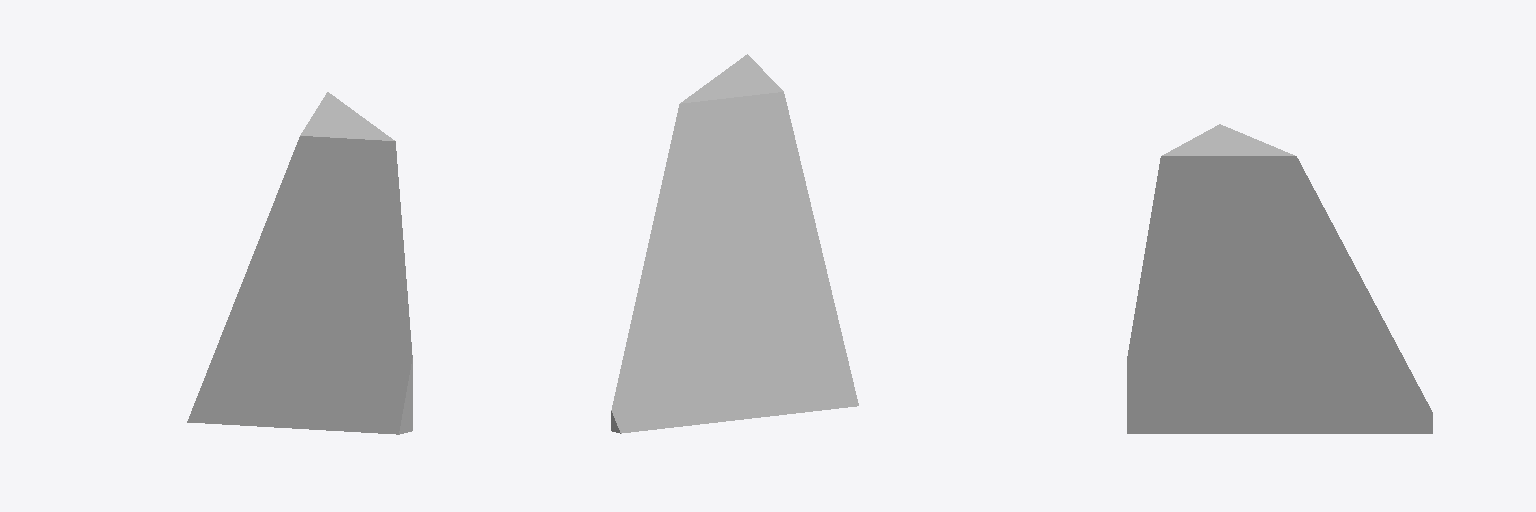
The model's file is CubeShatter01.obj.
The picture shows the model from 3 angles: view 1: azimuth 30°, elevation 25°; view 2: azimuth 150°, elevation 25°; view 3: azimuth 270°, elevation 25°; orthographic projection.
Visible parts, largest first — view 1: CubeShatter01; view 2: CubeShatter01; view 3: CubeShatter01.
Boxes of the visible parts, x1=… form: CubeShatter01: x1=187, y1=92, x2=412, y2=434; CubeShatter01: x1=611, y1=54, x2=858, y2=433; CubeShatter01: x1=1127, y1=124, x2=1432, y2=433.
Bounding box in the file's own units: 1.21 × 2 × 2.